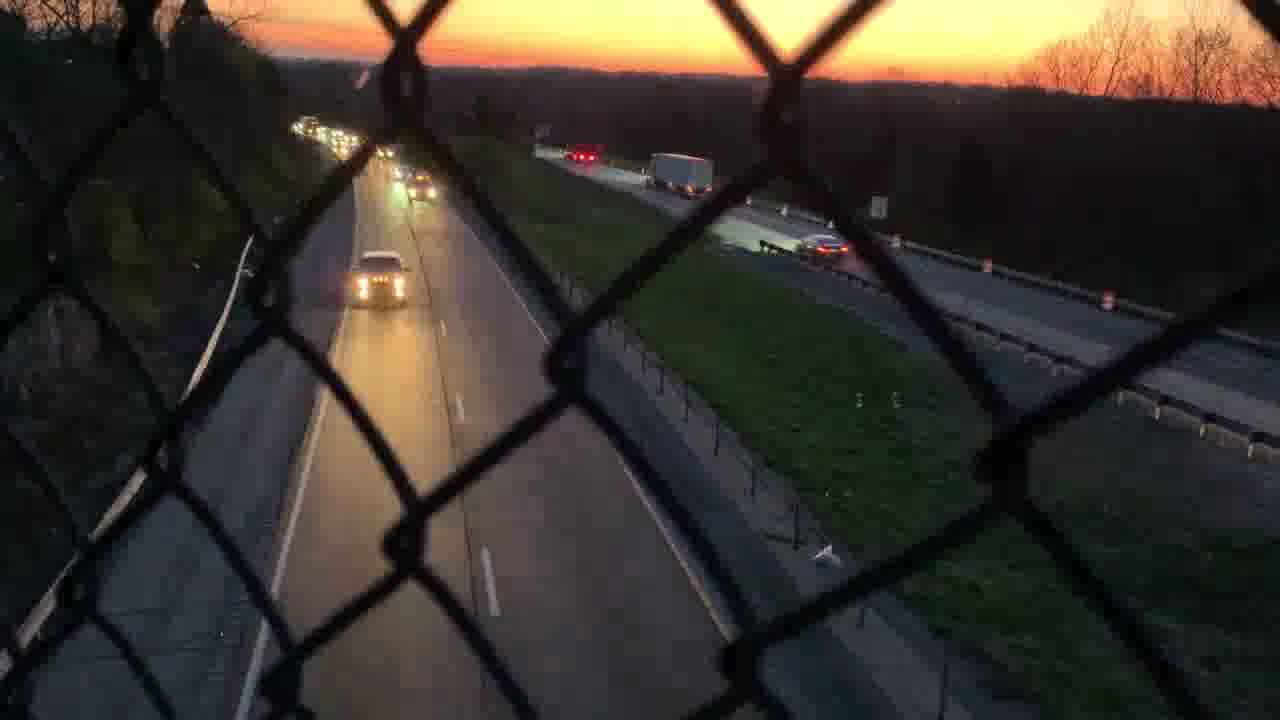heavyTruck: (645, 152, 716, 203)
largeCar: (353, 249, 414, 311)
smallCar: (796, 233, 848, 266)
